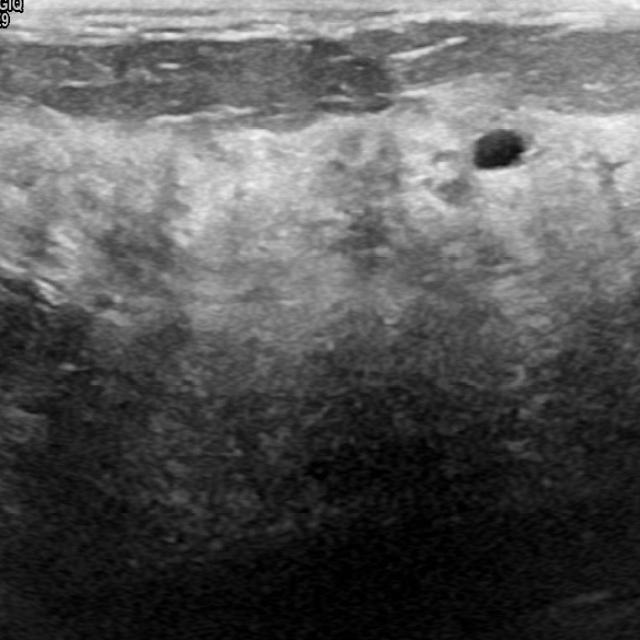Benign: (466, 123, 534, 181)
